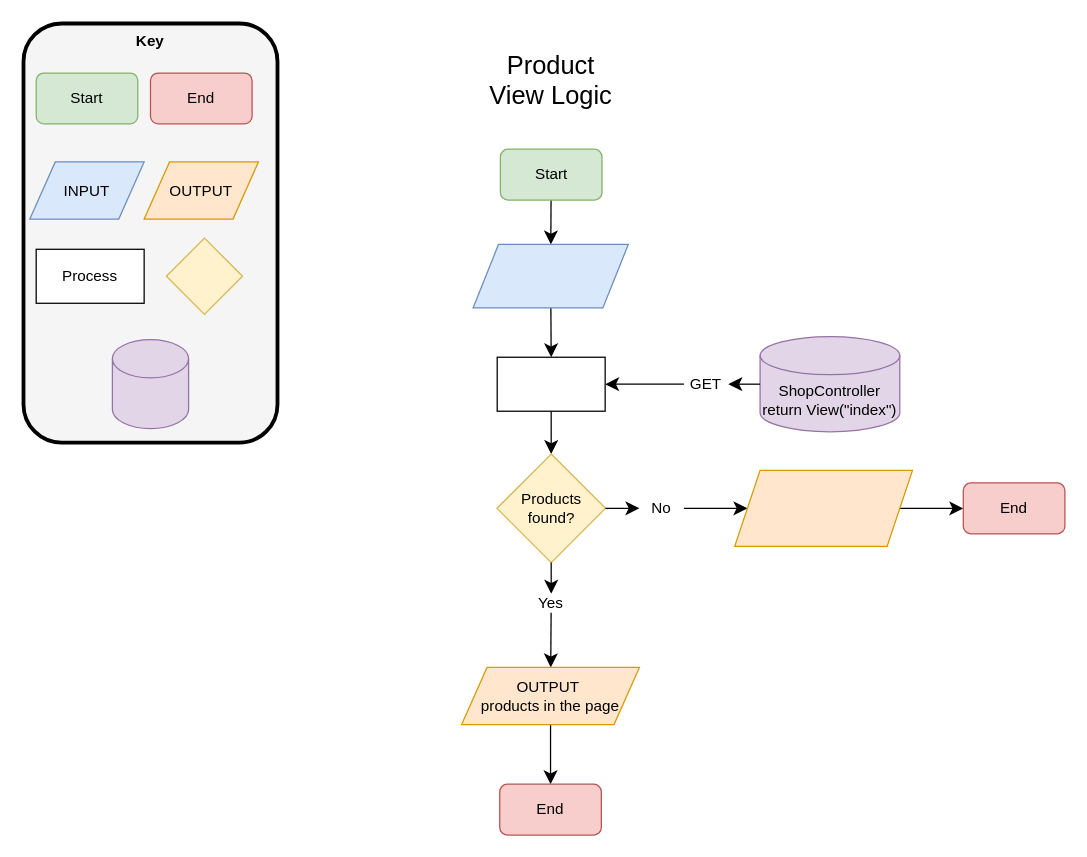
Some shapes in this 1087 by 857 pixel diagram are drawn without their labels. Each missing label, with the box of its shape:
Database: (111, 338, 189, 429)
Decision: (165, 237, 243, 314)
OUTPUT "No products found": (733, 469, 912, 546)
Page and products load: (496, 356, 605, 411)
User navigates to the shop: (472, 243, 628, 308)
